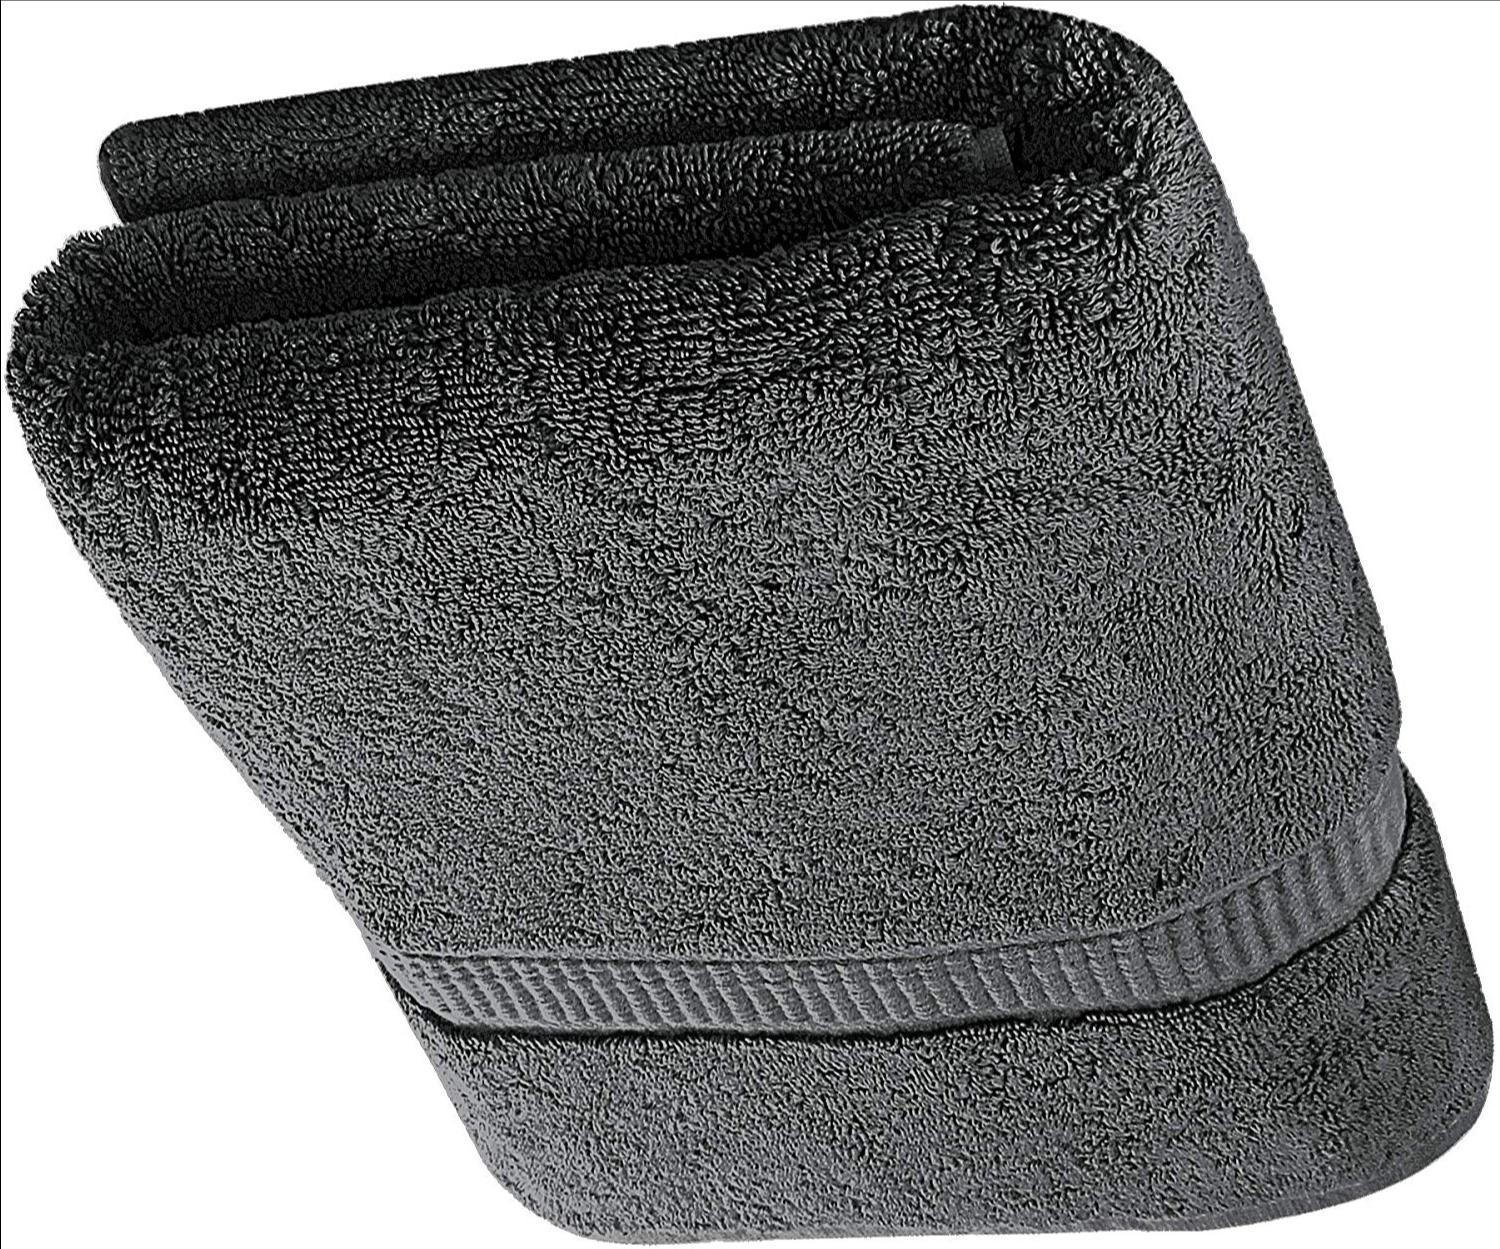towel: (0, 16, 1500, 1249)
